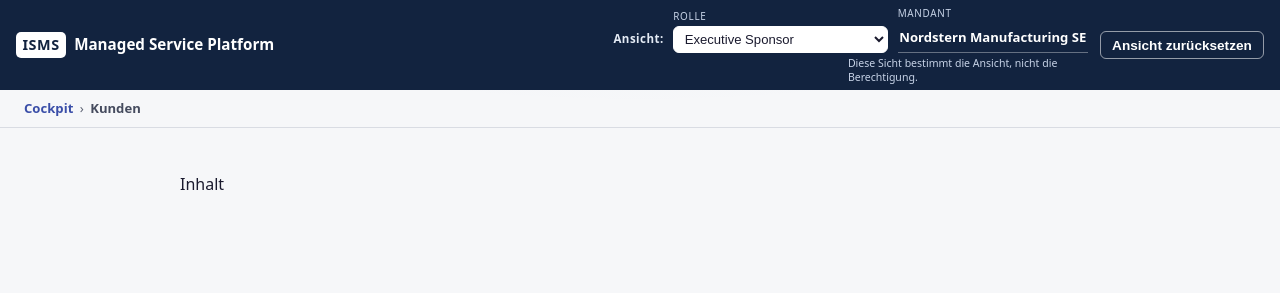
Test: AppShell – Rollenwechsel als sichtbarer Moduswechsel (Dok. 06 „Rollenwechsel") › AC 7: die Topbar führt „ohne Rolle" – die Abwahl feuert null und wird benannt
Select "ohne Rolle" in the dropdown named "Ansicht: Rolle" at (781, 39), box [673,26,888,53]
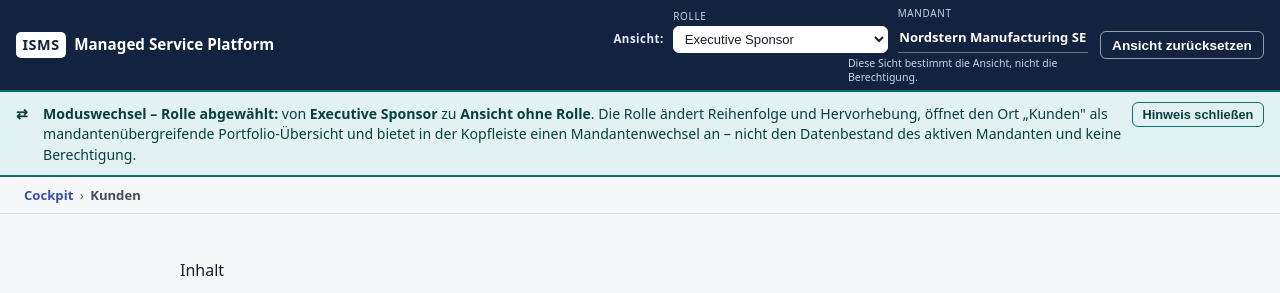
Expected: the message shows "Rolle abgewählt", [161,104,274,123]
Expected: the message shows "Executive Sponsor", [310,104,438,123]
Expected: the message shows "Ansicht ohne Rolle", [460,104,591,123]
